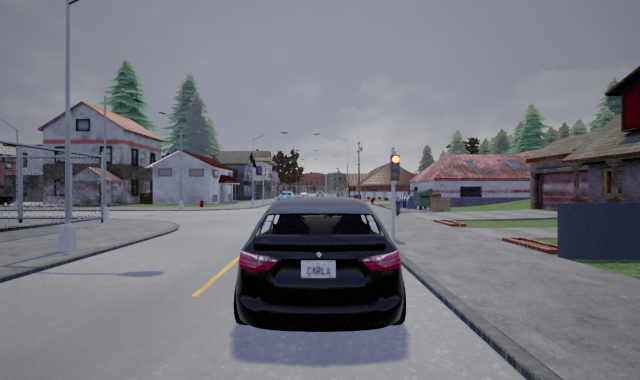pedestrian: (395, 195, 400, 215)
traffic_light: (390, 154, 399, 181)
vehicle: (231, 194, 406, 331)
